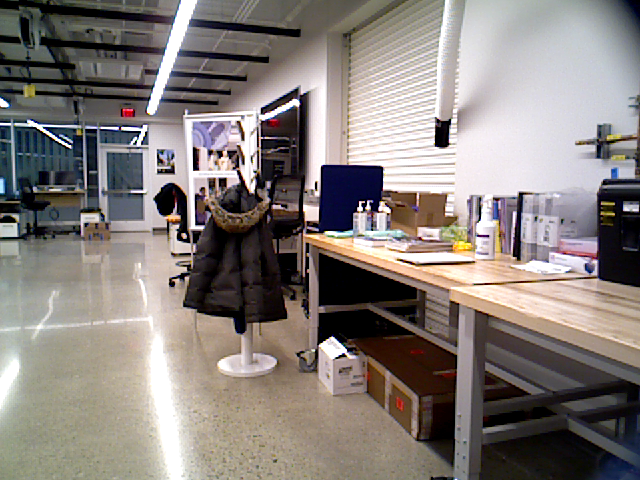painting3: (155, 148, 176, 177)
